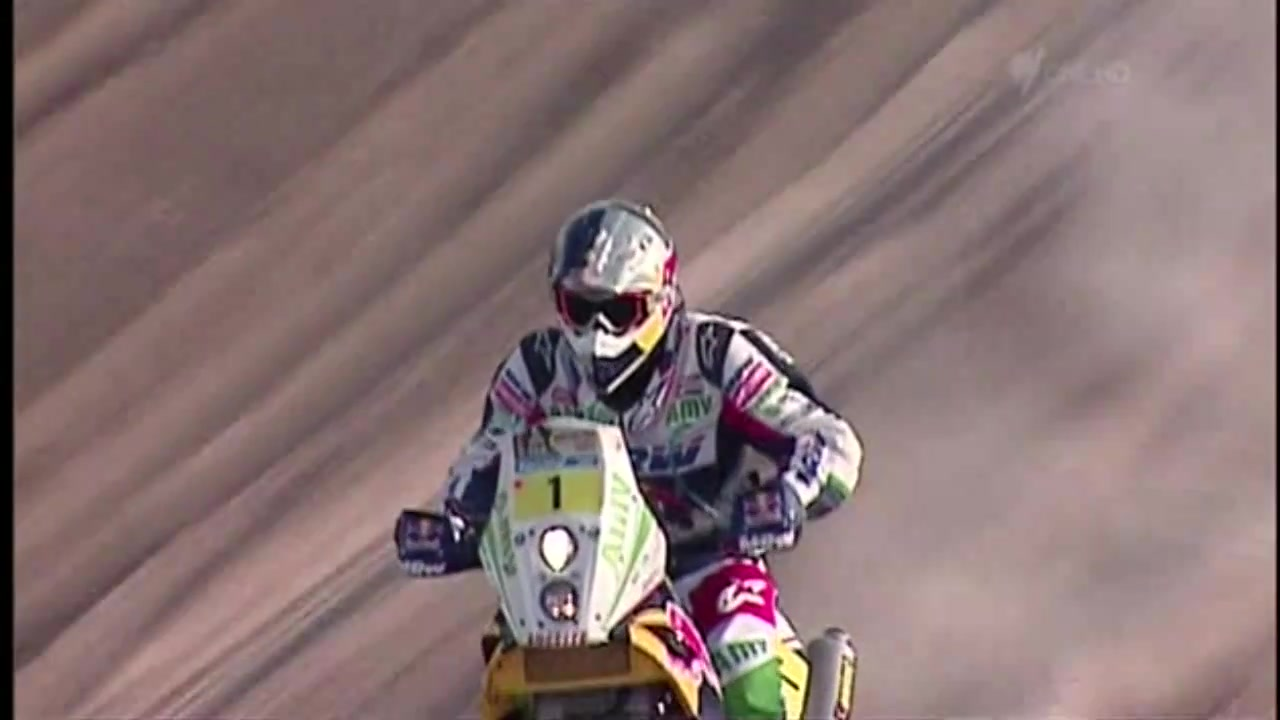motorbike: (391, 402, 864, 720)
